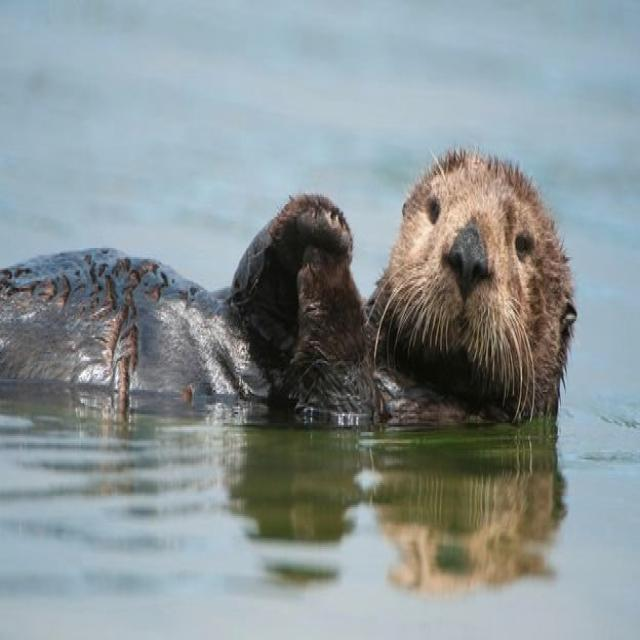otter: (0, 150, 576, 425)
